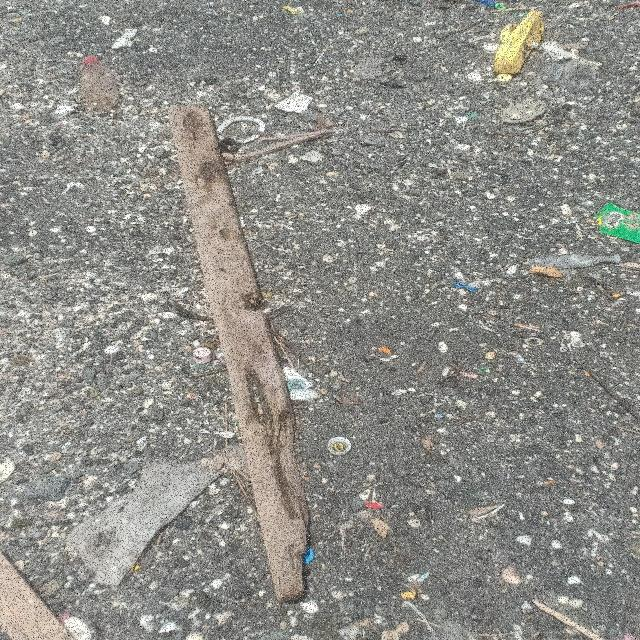plastic_waste: (82, 57, 120, 112), (543, 59, 597, 93), (597, 202, 640, 244), (328, 438, 354, 456)
rubber_waste: (494, 12, 546, 74)
wood_waste: (169, 105, 321, 603)
